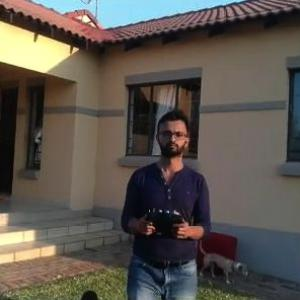follow: (111, 105, 216, 299)
null: (198, 243, 254, 289)
